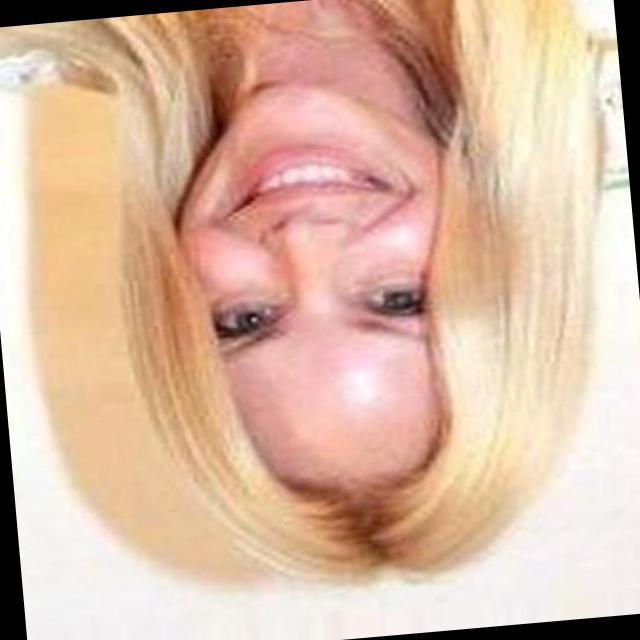bareface: (104, 62, 535, 551)
